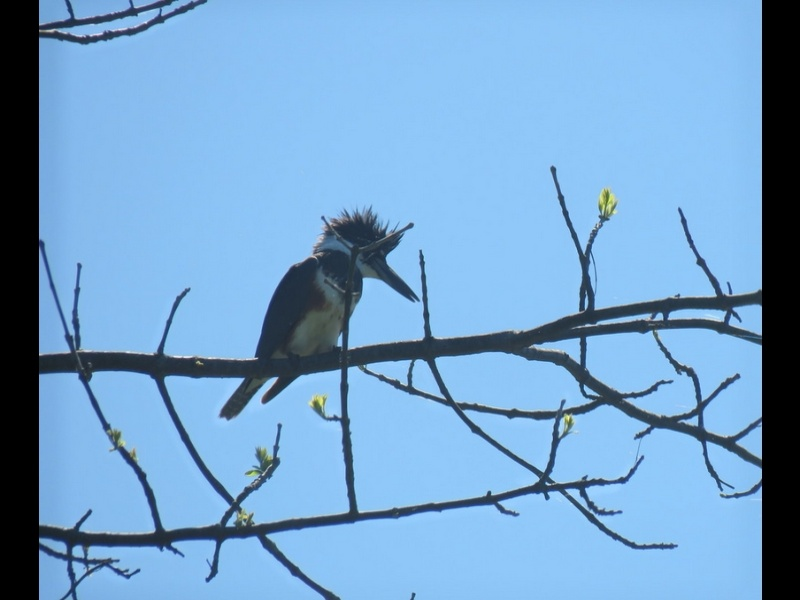kingfisher: (216, 207, 422, 422)
